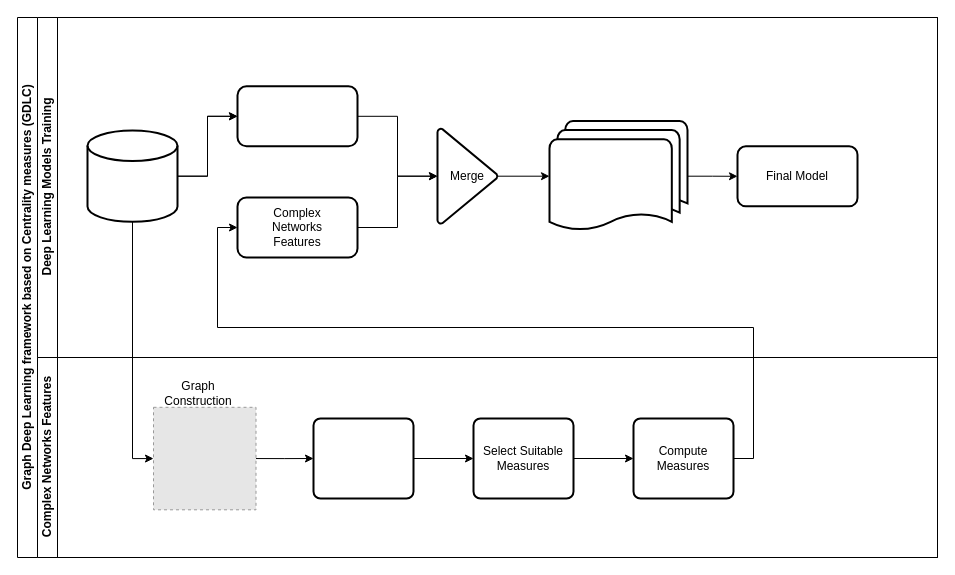
Image size: 955x575. Some labels were removed from this diagram. Grey dashed boxes stand in for pictures. The centre of each missing label's shape, as x and y in pixels:
"5-Fold Cross Validation" belongs at (x=618, y=175).
"Compute Graph-Level Metrics" belongs at (x=363, y=458).
"dataset" belongs at (x=132, y=175).
"Network Traffic Features" belongs at (x=297, y=116).
